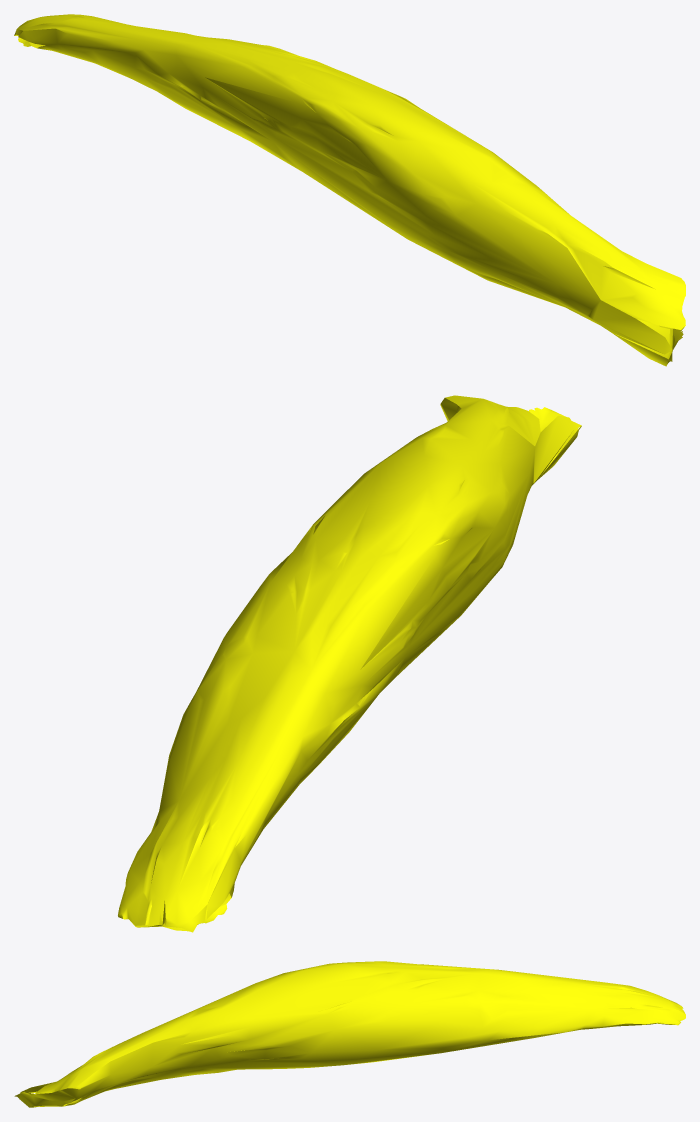
File: LONG_TRICEPS_BRACHII.obj
3 views of the same model, one above another, from view 1: azimuth 30°, elevation 25°; view 2: azimuth 150°, elevation 25°; view 3: azimuth 270°, elevation 25° (orthographic). The views are drawn at different scales.
Visible parts, largest first — view 1: arm:FJ1479_grp1 arm:MAIN arm:MUSCLE arm:Triceps_Brachii arm:poly; view 2: arm:FJ1479_grp1 arm:MAIN arm:MUSCLE arm:Triceps_Brachii arm:poly; view 3: arm:FJ1479_grp1 arm:MAIN arm:MUSCLE arm:Triceps_Brachii arm:poly.
Boxes of the visible parts, bbox=[...] form: arm:FJ1479_grp1 arm:MAIN arm:MUSCLE arm:Triceps_Brachii arm:poly: bbox=[14, 14, 685, 366]; arm:FJ1479_grp1 arm:MAIN arm:MUSCLE arm:Triceps_Brachii arm:poly: bbox=[118, 395, 581, 932]; arm:FJ1479_grp1 arm:MAIN arm:MUSCLE arm:Triceps_Brachii arm:poly: bbox=[14, 961, 685, 1107].
Size of the model in its own units: 81.77 by 45.34 by 266.
